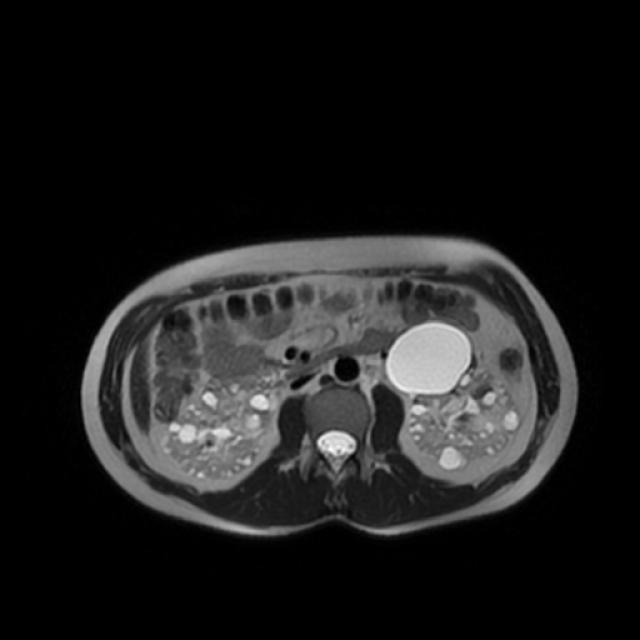sag: (166, 384, 276, 478)
sol: (386, 320, 519, 472)
